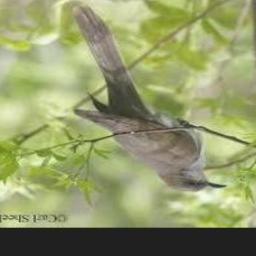Cuckoo: (73, 5, 227, 192)
